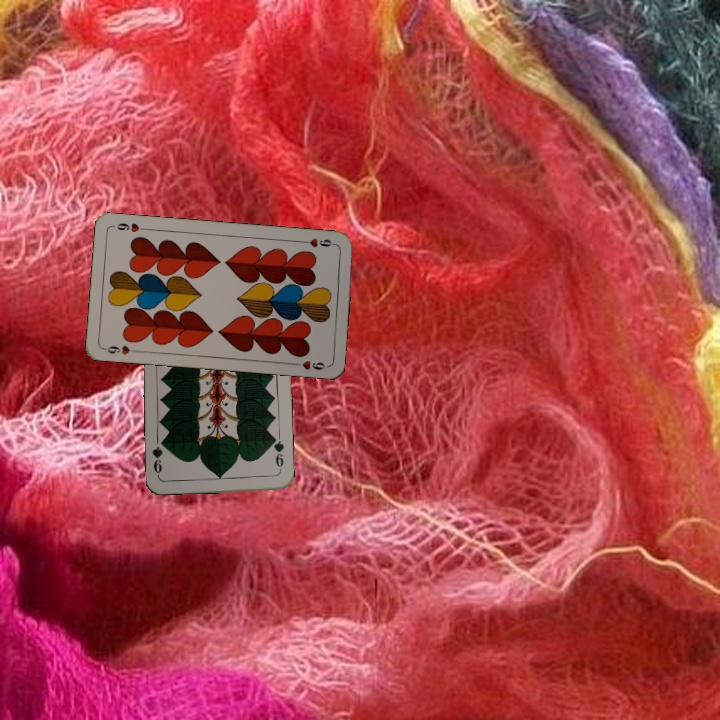G9: (269, 434, 287, 475)
H9: (100, 341, 140, 357), (298, 234, 338, 250)
